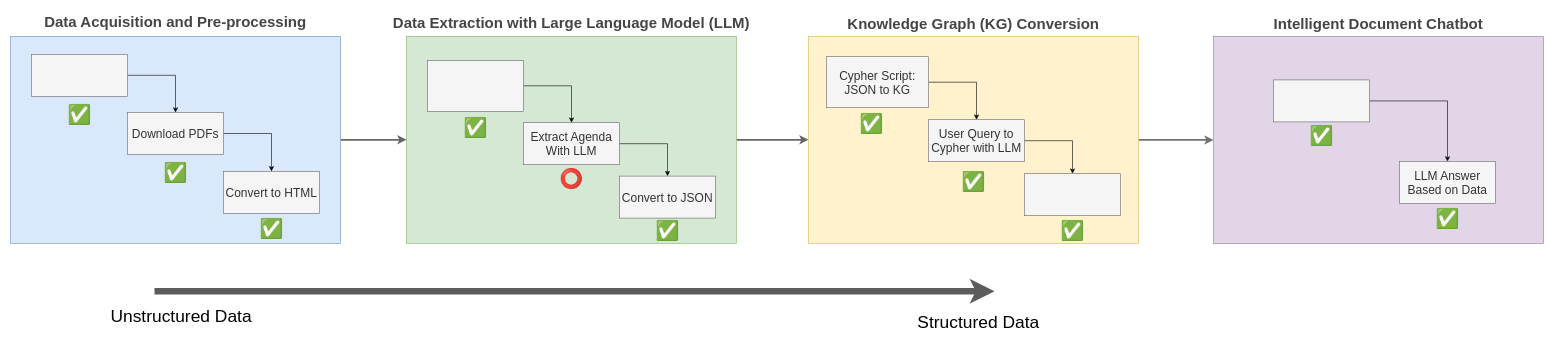
Some shapes in this 1554 by 343 pixel diagram are drawn without their labels. The box of each missing label's shape, as (x1, y1, x2, y2) in pixels:
Extract Meeting Metadata with LLM: (427, 60, 524, 111)
Relevant Data + User Query: (1273, 79, 1370, 122)
Retrieved Relevant Data: (1024, 173, 1120, 216)
Scrape Website: (31, 54, 128, 96)
